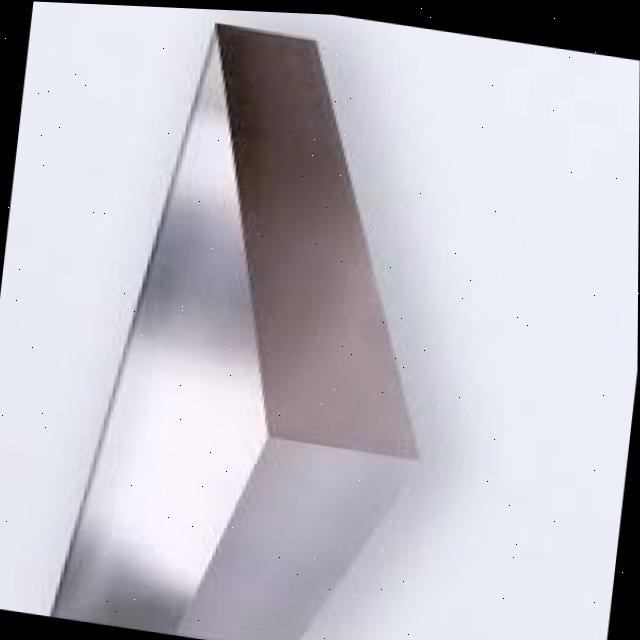Dry: (50, 23, 420, 640)
